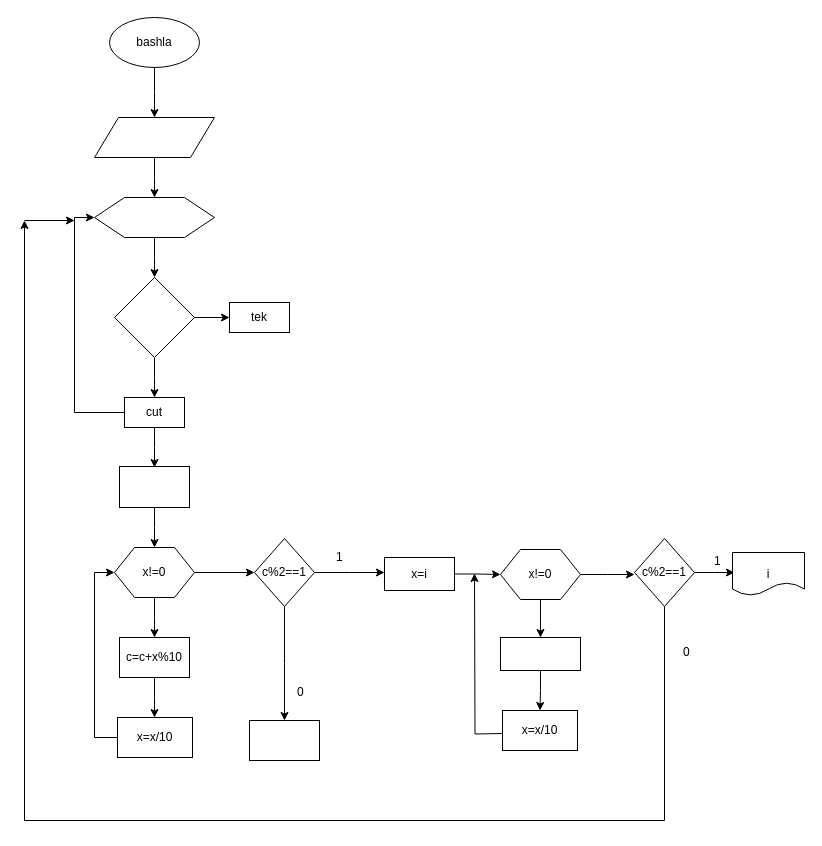
The diagram is 822 pixels wide and 846 high, and some of its shapes have lost their labels. Here are the shapes that lost their labels. From the top down, the centre of each, then its label:
At pixel 154 137: "i,c,x".
At pixel 154 217: "i=m;i<=n;i++".
At pixel 154 317: "i%2==0".
At pixel 154 487: "c=0 x=i".
At pixel 540 653: "k=x%10".
At pixel 284 740: "tek deil".
